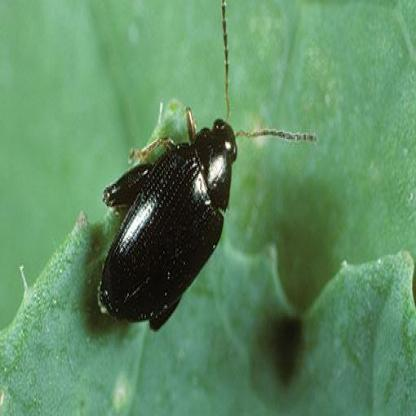beetle: (91, 18, 248, 337)
